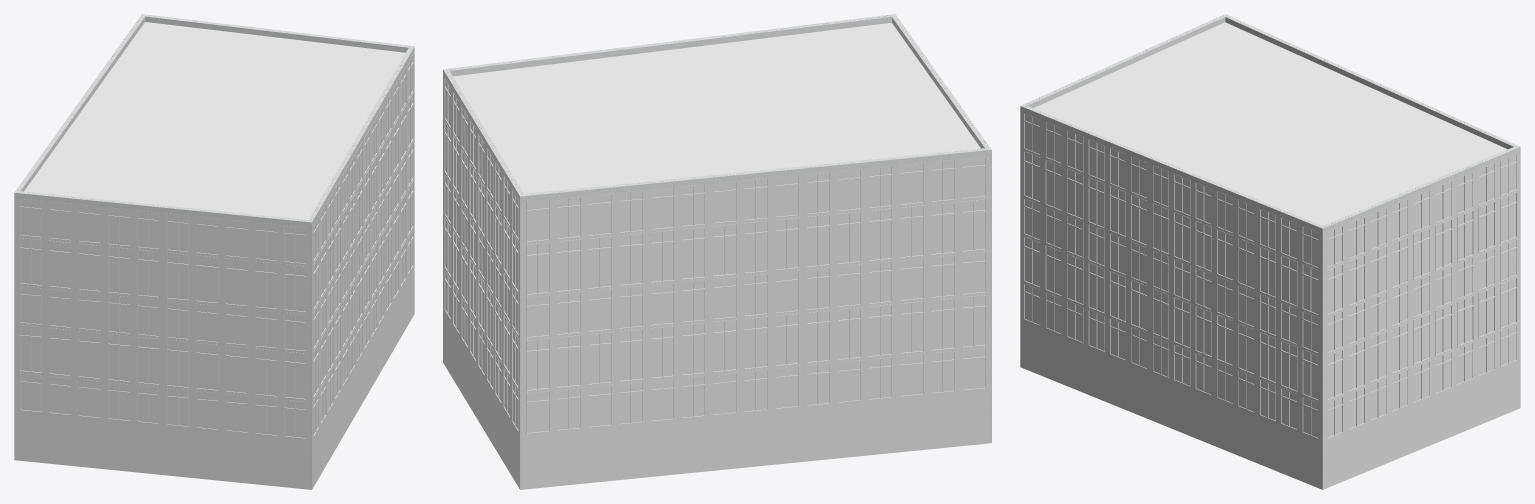
The model's file is clohblzqi02qd4p023n5zl1nd_0.glb.
3 renders of one model, left to right at view 1: azimuth 30°, elevation 25°; view 2: azimuth 150°, elevation 25°; view 3: azimuth 270°, elevation 25°, orthographic. The views are drawn at different scales.
Visible parts, largest first — view 1: mesh_CityEnginePBRShader, _2 (×50), mesh_Wall, mesh_Glass, mesh_Brick; view 2: _2 (×75), mesh_CityEnginePBRShader, mesh_Wall, mesh_Glass, mesh_Brick; view 3: mesh_CityEnginePBRShader, _2 (×82), mesh_Wall, mesh_Glass, mesh_Brick.
Boxes of the visible parts, x1,y1,x2,y2 form: mesh_CityEnginePBRShader: (14,22,414,489); _2 (×50): (20,199,305,437); mesh_Wall: (16,53,414,487); mesh_Glass: (19,268,413,487); mesh_Brick: (14,14,414,487); _2 (×75): (526,157,985,432); mesh_CityEnginePBRShader: (443,22,991,489); mesh_Wall: (443,76,989,487); mesh_Glass: (444,313,985,486); mesh_Brick: (443,14,991,487); mesh_CityEnginePBRShader: (1020,22,1520,489); _2 (×82): (1025,122,1515,437); mesh_Wall: (1021,112,1519,487); mesh_Glass: (1024,322,1516,485); mesh_Brick: (1020,14,1520,487).
Bounding box in the file's own units: 52.63 × 29.86 × 51.85.
5 materials, 1 textured.
